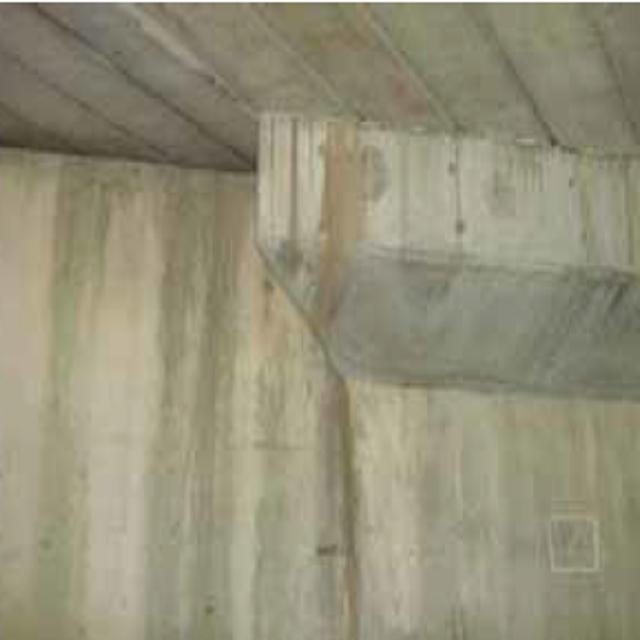leakage: (150, 161, 250, 630), (320, 370, 377, 640)
